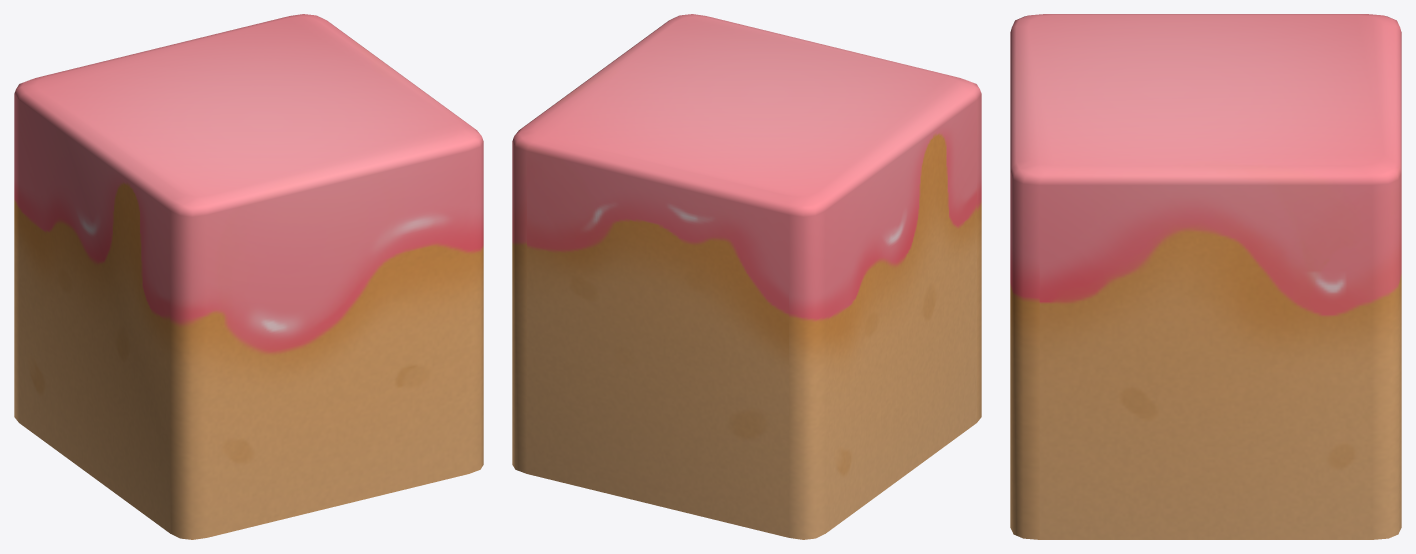
Rendered from badak_su.fbx.
The picture shows the model from 3 angles, left to right: view 1: azimuth 30°, elevation 25°; view 2: azimuth 150°, elevation 25°; view 3: azimuth 270°, elevation 25°; orthographic projection. The views are drawn at different scales.
Visible parts, largest first — view 1: Box016; view 2: Box016; view 3: Box016.
Boxes of the visible parts, left/top/right/bottom form: Box016: left=14, top=14, right=483, bottom=539; Box016: left=512, top=14, right=981, bottom=539; Box016: left=1010, top=14, right=1401, bottom=539.
Bounding box in the file's own units: 20 × 20.69 × 20.
1 material, 1 textured.
